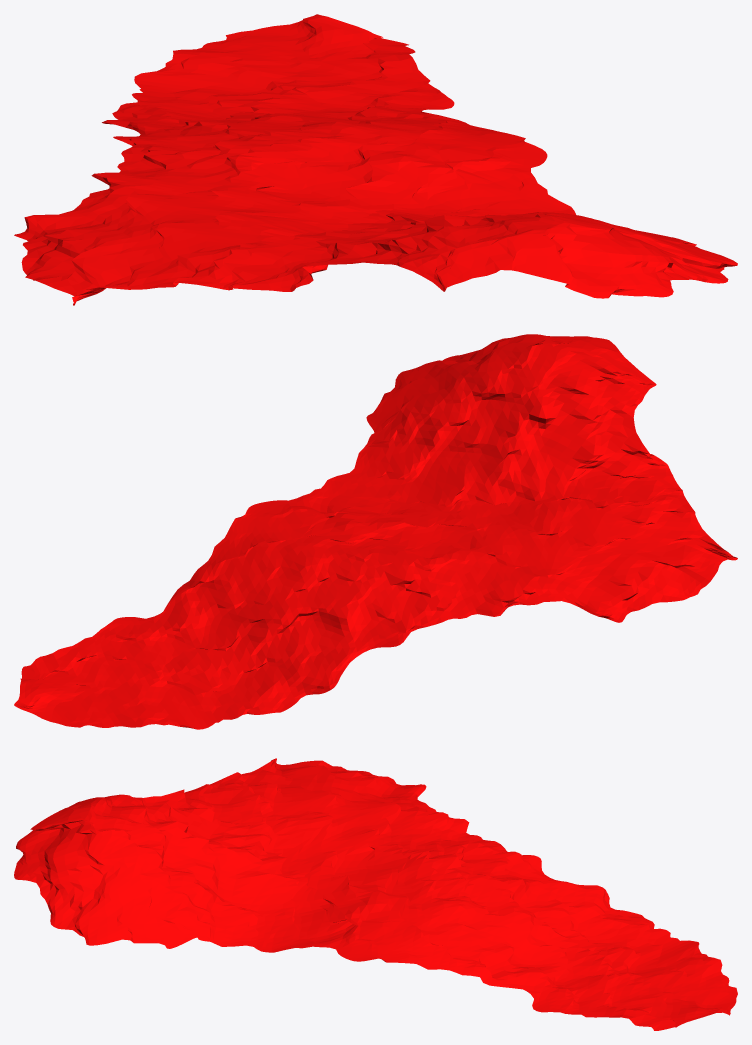
File: ground.fbx
3 views of the same model, one above another, from view 1: azimuth 30°, elevation 25°; view 2: azimuth 150°, elevation 25°; view 3: azimuth 270°, elevation 25° (orthographic). The views are drawn at different scales.
Parts seen in each view (by area): view 1: Ground; view 2: Ground; view 3: Ground.
Part boxes in pixels (x1,y1,x2,y2): Ground: [14, 14, 737, 305]; Ground: [14, 334, 737, 729]; Ground: [14, 758, 737, 1030].
Size of the model in its own units: 64.36 by 17.44 by 93.1.
